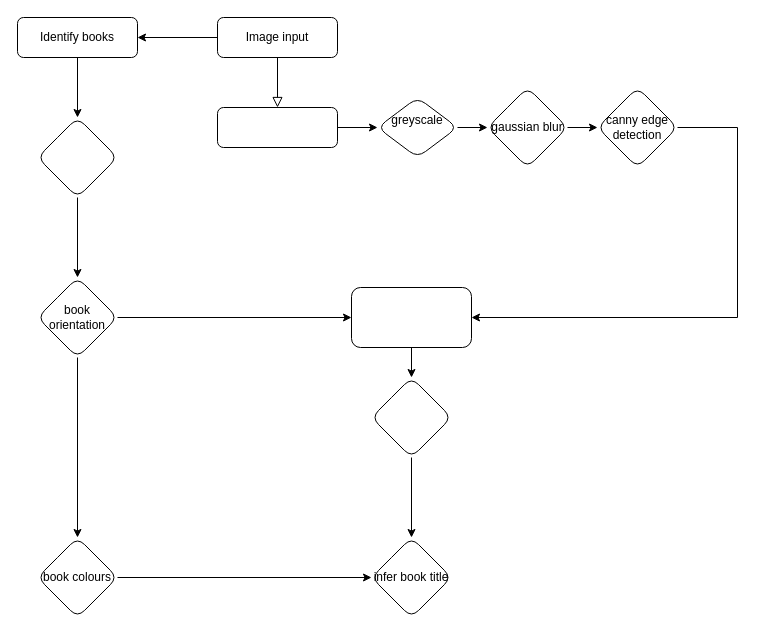
This 763x635 diagram has some shape labels left out. The shapes that lost their labels are listed below. From the top down, each one's box as (x1, y1, x2, y2) in pixels, then its label:
(216, 106, 338, 148): preprocess image
(36, 116, 118, 198): how many books
(350, 286, 472, 348): apply edges to book crops
(370, 376, 452, 458): OCR
